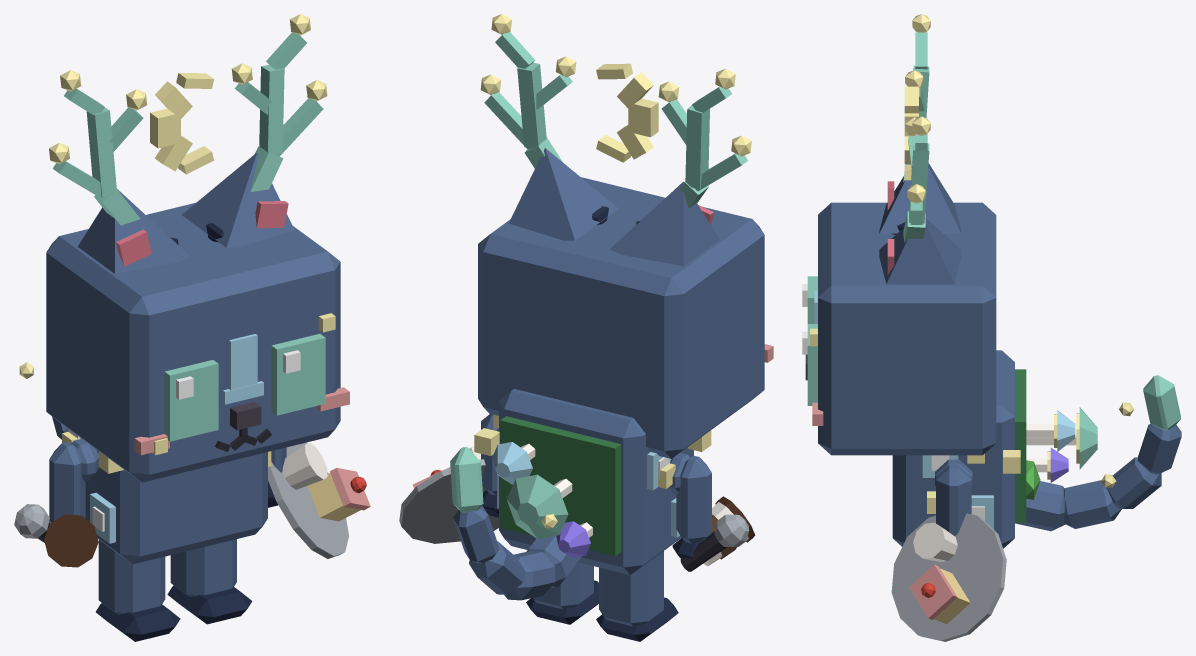
The model's file is CatCafe_Cat_Moonstag_Work.glb.
3 renders of one model, left to right at view 1: azimuth 30°, elevation 25°; view 2: azimuth 150°, elevation 25°; view 3: azimuth 270°, elevation 25°, orthographic. The views are drawn at different scales.
Parts seen in each view (by area): view 1: CatCafe_Cat_Moonstag_Work_Head, CatCafe_Cat_Moonstag_Work_Body, CatCafe_Cat_Moonstag_Work_Glow, CatCafe_Cat_Moonstag_Work_Held_Waiter, CatCafe_Cat_Moonstag_Work_LegB2, CatCafe_Cat_Moonstag_Work_EarL, CatCafe_Cat_Moonstag_Work_LegB1, CatCafe_Cat_Moonstag_Work_EarR, CatCafe_Cat_Moonstag_Work_Eye1, CatCafe_Cat_Moonstag_Work_Eye2, CatCafe_Cat_Moonstag_Work_LegF2, CatCafe_Cat_Moonstag_Work_Held_Barista (+1 smaller); view 2: CatCafe_Cat_Moonstag_Work_Head, CatCafe_Cat_Moonstag_Work_Glow, CatCafe_Cat_Moonstag_Work_Body, CatCafe_Cat_Moonstag_Work_Prop2, CatCafe_Cat_Moonstag_Work_Tail, CatCafe_Cat_Moonstag_Work_EarL, CatCafe_Cat_Moonstag_Work_Grove_Glow, CatCafe_Cat_Moonstag_Work_EarR, CatCafe_Cat_Moonstag_Work_LegB2, CatCafe_Cat_Moonstag_Work_Held_Waiter, CatCafe_Cat_Moonstag_Work_LegF2, CatCafe_Cat_Moonstag_Work_LegB1 (+3 smaller); view 3: CatCafe_Cat_Moonstag_Work_Head, CatCafe_Cat_Moonstag_Work_Held_Waiter, CatCafe_Cat_Moonstag_Work_Body, CatCafe_Cat_Moonstag_Work_Tail, CatCafe_Cat_Moonstag_Work_Glow, CatCafe_Cat_Moonstag_Work_EarL, CatCafe_Cat_Moonstag_Work_Prop2, CatCafe_Cat_Moonstag_Work_EarR, CatCafe_Cat_Moonstag_Work_Grove_Glow, CatCafe_Cat_Moonstag_Work_LegF1, CatCafe_Cat_Moonstag_Work_Eye1, CatCafe_Cat_Moonstag_Work_Eye2.
Boxes of the visible parts, left/top/right/bottom form: CatCafe_Cat_Moonstag_Work_Head: left=46, top=202, right=349, bottom=482; CatCafe_Cat_Moonstag_Work_Body: left=62, top=427, right=271, bottom=564; CatCafe_Cat_Moonstag_Work_Glow: left=49, top=14, right=327, bottom=225; CatCafe_Cat_Moonstag_Work_Held_Waiter: left=268, top=442, right=370, bottom=558; CatCafe_Cat_Moonstag_Work_LegB2: left=96, top=540, right=180, bottom=641; CatCafe_Cat_Moonstag_Work_EarL: left=182, top=152, right=294, bottom=247; CatCafe_Cat_Moonstag_Work_LegB1: left=167, top=539, right=252, bottom=624; CatCafe_Cat_Moonstag_Work_EarR: left=77, top=189, right=190, bottom=273; CatCafe_Cat_Moonstag_Work_Eye1: left=271, top=333, right=325, bottom=415; CatCafe_Cat_Moonstag_Work_Eye2: left=164, top=360, right=218, bottom=441; CatCafe_Cat_Moonstag_Work_LegF2: left=49, top=441, right=85, bottom=522; CatCafe_Cat_Moonstag_Work_Held_Barista: left=44, top=514, right=98, bottom=567; CatCafe_Cat_Moonstag_Work_Head: left=478, top=177, right=773, bottom=458; CatCafe_Cat_Moonstag_Work_Glow: left=480, top=14, right=751, bottom=208; CatCafe_Cat_Moonstag_Work_Body: left=474, top=389, right=711, bottom=574; CatCafe_Cat_Moonstag_Work_Prop2: left=500, top=416, right=621, bottom=556; CatCafe_Cat_Moonstag_Work_Tail: left=450, top=447, right=581, bottom=600; CatCafe_Cat_Moonstag_Work_EarL: left=508, top=148, right=618, bottom=240; CatCafe_Cat_Moonstag_Work_Grove_Glow: left=492, top=442, right=590, bottom=557; CatCafe_Cat_Moonstag_Work_EarR: left=610, top=181, right=719, bottom=266; CatCafe_Cat_Moonstag_Work_LegB2: left=596, top=551, right=678, bottom=641; CatCafe_Cat_Moonstag_Work_Held_Waiter: left=399, top=446, right=498, bottom=543; CatCafe_Cat_Moonstag_Work_LegF2: left=672, top=455, right=711, bottom=558; CatCafe_Cat_Moonstag_Work_LegB1: left=526, top=562, right=598, bottom=624; CatCafe_Cat_Moonstag_Work_Head: left=805, top=202, right=996, bottom=455; CatCafe_Cat_Moonstag_Work_Held_Waiter: left=891, top=513, right=1006, bottom=641; CatCafe_Cat_Moonstag_Work_Body: left=892, top=350, right=1020, bottom=548; CatCafe_Cat_Moonstag_Work_Tail: left=1015, top=375, right=1181, bottom=531; CatCafe_Cat_Moonstag_Work_Glow: left=903, top=14, right=930, bottom=242; CatCafe_Cat_Moonstag_Work_EarL: left=879, top=218, right=961, bottom=284; CatCafe_Cat_Moonstag_Work_Prop2: left=1015, top=369, right=1076, bottom=522; CatCafe_Cat_Moonstag_Work_EarR: left=879, top=163, right=961, bottom=233; CatCafe_Cat_Moonstag_Work_Grove_Glow: left=1047, top=402, right=1134, bottom=487; CatCafe_Cat_Moonstag_Work_LegF1: left=936, top=465, right=971, bottom=536; CatCafe_Cat_Moonstag_Work_Eye1: left=802, top=324, right=817, bottom=405; CatCafe_Cat_Moonstag_Work_Eye2: left=802, top=276, right=817, bottom=323.
Bounding box in the file's own units: 1.53 × 2.51 × 1.62.
1 material, 1 textured.
